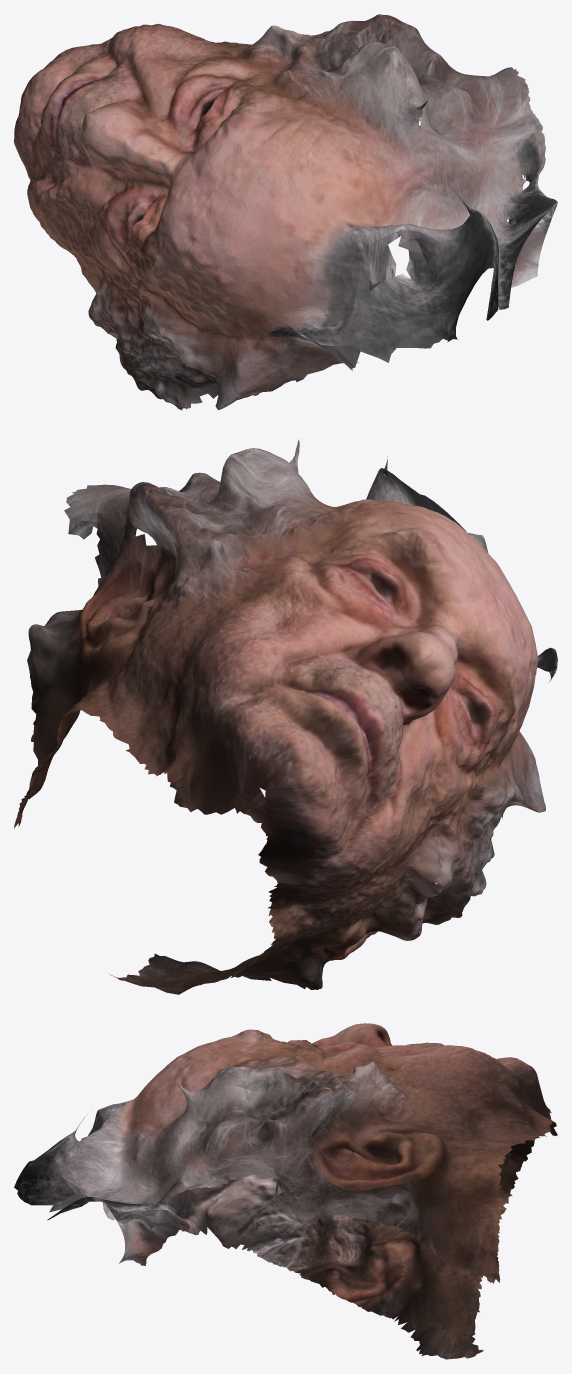
File: QuickImport.fbx
3 renders of one model, top to bottom at view 1: azimuth 30°, elevation 25°; view 2: azimuth 150°, elevation 25°; view 3: azimuth 270°, elevation 25°, orthographic. The views are drawn at different scales.
Parts seen in each view (by area): view 1: robert_frank_nut; view 2: robert_frank_nut; view 3: robert_frank_nut.
Boxes of the visible parts, <box> form: robert_frank_nut: <box>14,14,557,410</box>; robert_frank_nut: <box>14,439,557,994</box>; robert_frank_nut: <box>14,1023,557,1359</box>.
Bounding box in the file's own units: 791 × 718 × 1135.
3 materials, 3 textured.
